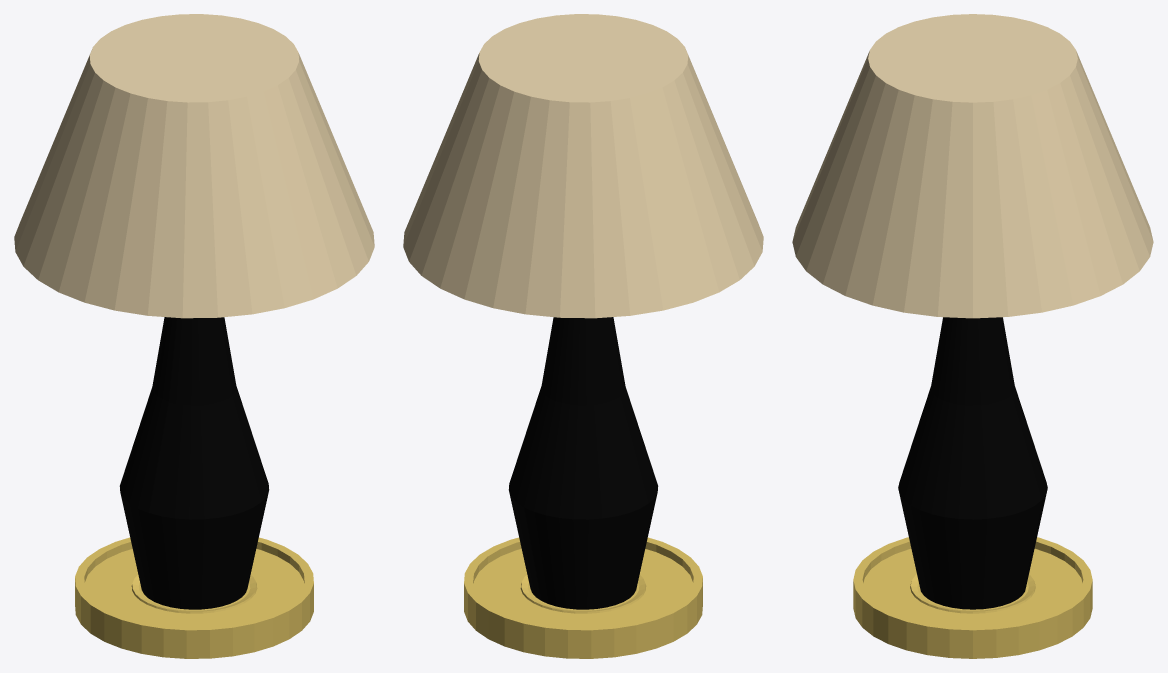
File: lamp.fbx
The picture shows the model from 3 angles, left to right: view 1: azimuth 30°, elevation 25°; view 2: azimuth 150°, elevation 25°; view 3: azimuth 270°, elevation 25°; orthographic projection.
Visible parts, largest first — view 1: Circle.001, Circle; view 2: Circle.001, Circle; view 3: Circle.001, Circle.
Boxes of the visible parts, x1=… form: Circle.001: x1=14, y1=14, x2=374, y2=318; Circle: x1=75, y1=317, x2=313, y2=658; Circle.001: x1=403, y1=14, x2=763, y2=318; Circle: x1=464, y1=317, x2=702, y2=658; Circle.001: x1=792, y1=14, x2=1153, y2=318; Circle: x1=853, y1=317, x2=1092, y2=658.
Bounding box in the file's own units: 144 × 242 × 144.
